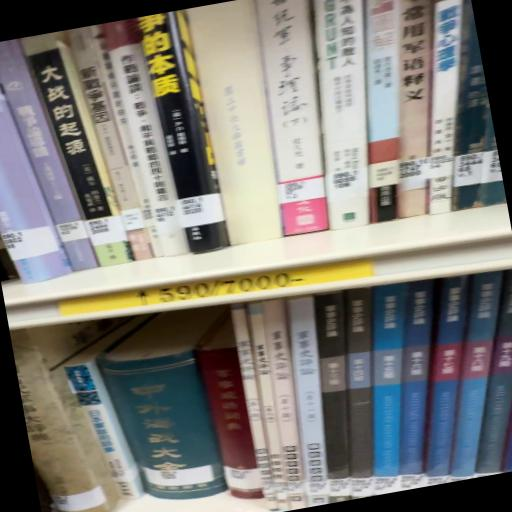backward: (188, 1, 284, 246)
book: (183, 1, 294, 254), (287, 1, 405, 232), (245, 1, 354, 238), (1, 31, 104, 279), (404, 278, 506, 482), (368, 284, 460, 483), (1, 37, 73, 290), (356, 278, 437, 476)
